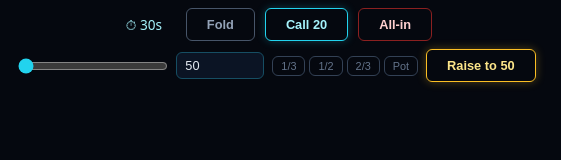
Test: direct raise input › slider and input stay in sync
Set the slider with class "raise-slider" to "120" at {"x": 47, "y": 66}, box [18,58,168,74]
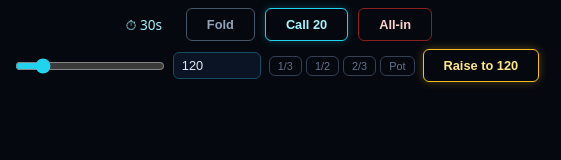
Expected: the number field with class "raise-input" holds "120", [173,52,261,79]
